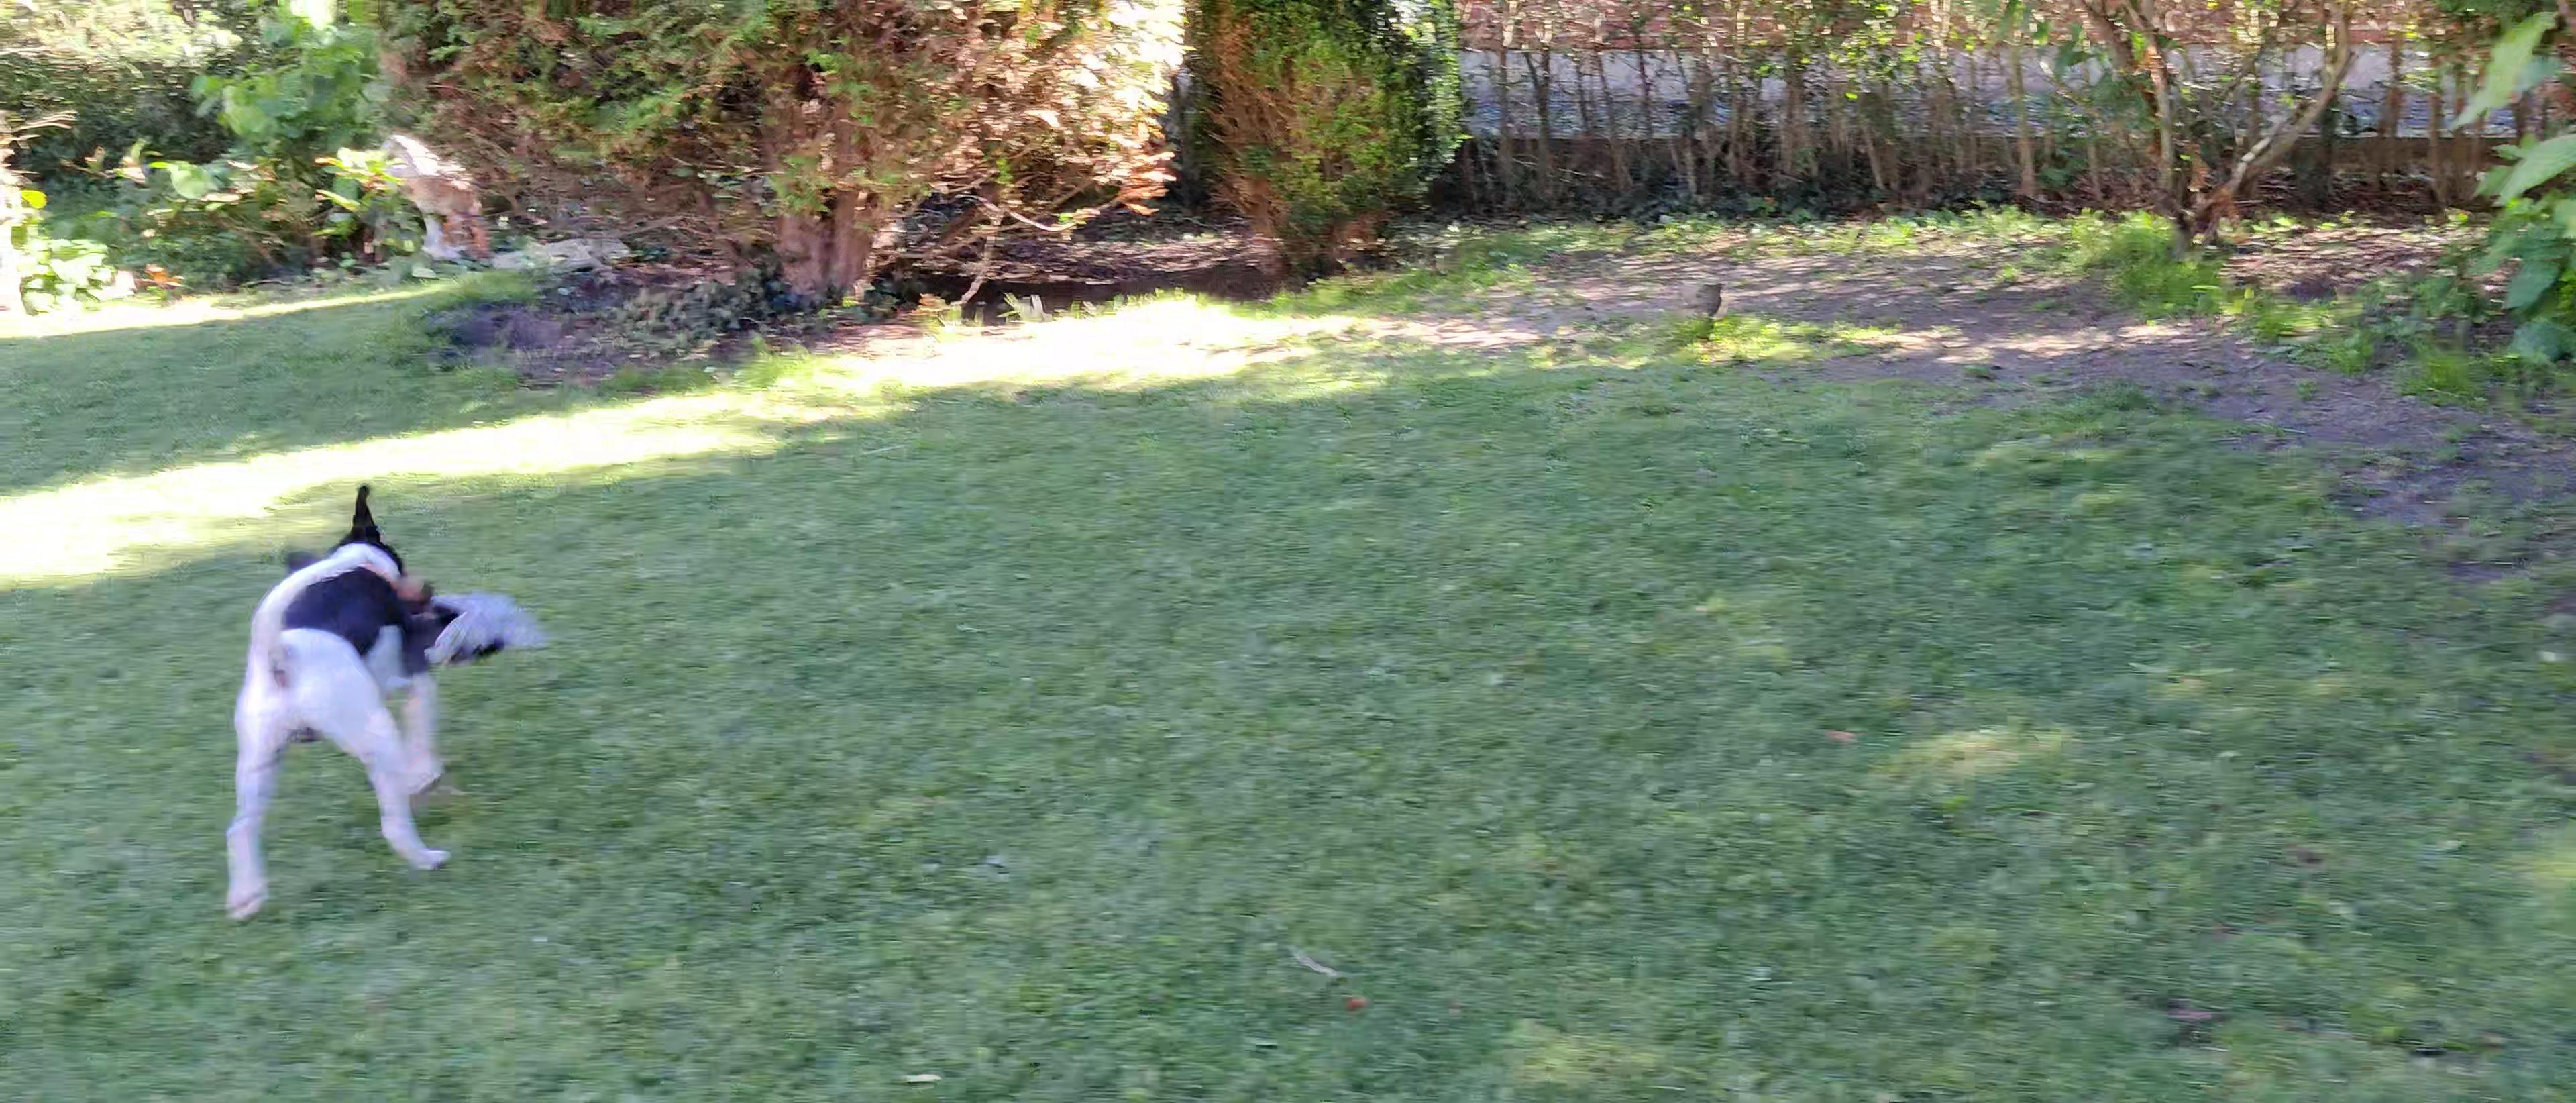Dog: (209, 470, 486, 924)
